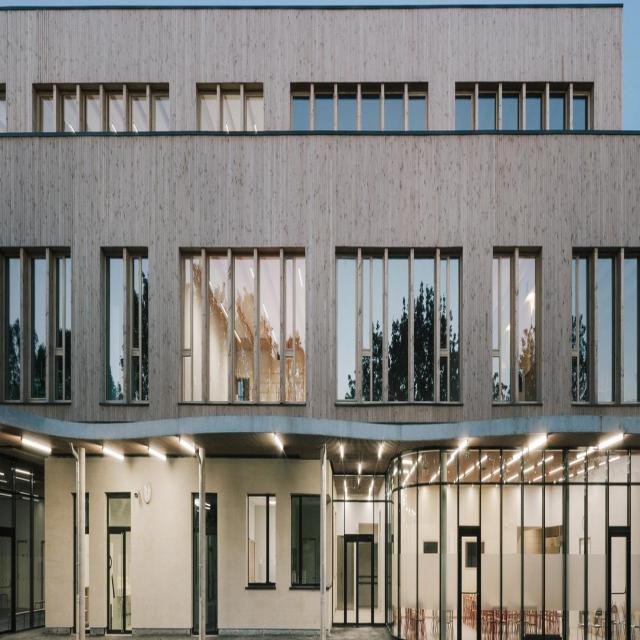door: (0, 470, 46, 619), (192, 492, 219, 631), (108, 488, 131, 637), (342, 532, 374, 628), (606, 526, 630, 638), (458, 519, 480, 630)
windows: (334, 460, 637, 634), (179, 250, 312, 400), (338, 256, 461, 402), (2, 244, 74, 398), (571, 251, 638, 404), (289, 77, 426, 136), (491, 255, 538, 399), (107, 253, 148, 407), (454, 90, 592, 132), (39, 93, 170, 136), (246, 493, 278, 591), (198, 89, 263, 134), (290, 492, 320, 588)
